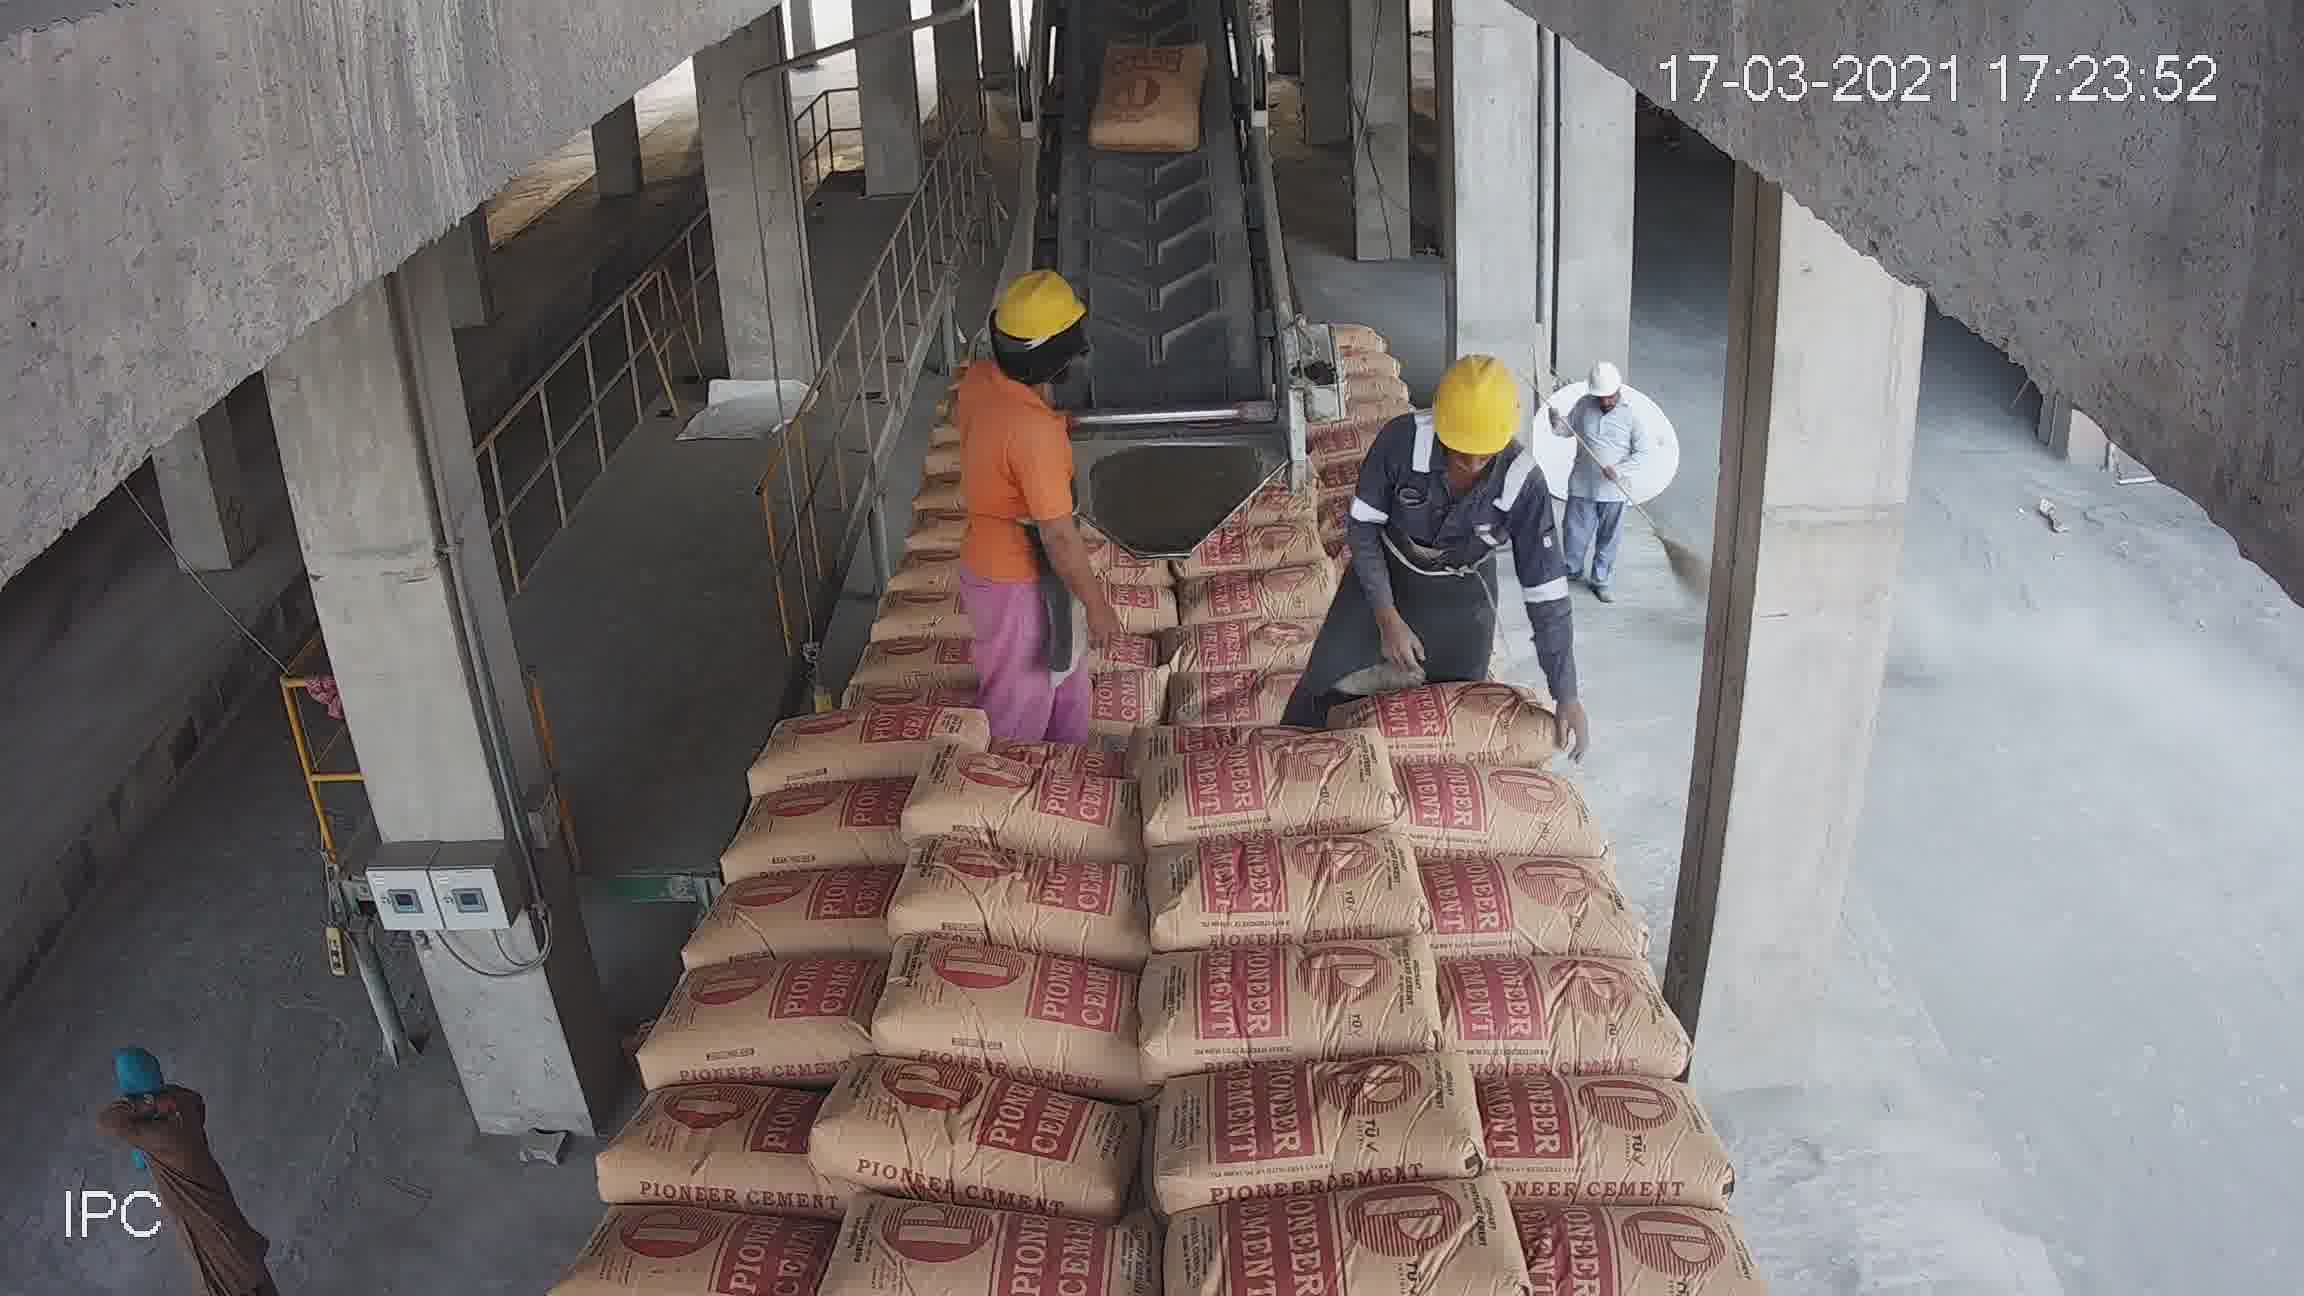bag: (943, 369, 1090, 475), (1101, 101, 1204, 203)
bag_h: (1124, 1055, 1492, 1212), (790, 1071, 1139, 1230), (1100, 932, 1461, 1063), (1169, 1174, 1540, 1296), (862, 942, 1122, 1097), (780, 1198, 1144, 1296), (1437, 943, 1703, 1071), (1100, 734, 1393, 850), (579, 1074, 828, 1211), (1119, 831, 1419, 937), (1476, 1052, 1711, 1188), (1397, 851, 1625, 981), (646, 962, 885, 1079), (897, 658, 1165, 763), (1506, 1190, 1764, 1296), (878, 859, 1139, 959), (570, 1201, 840, 1296), (695, 785, 926, 896), (1133, 652, 1394, 748), (889, 766, 1131, 850), (1160, 571, 1385, 660), (687, 878, 907, 968), (1377, 684, 1573, 782), (918, 560, 1149, 642), (798, 627, 973, 718), (1168, 529, 1378, 601), (1412, 775, 1609, 851), (976, 600, 1152, 684), (761, 711, 951, 783), (1361, 623, 1548, 692), (1176, 486, 1336, 565), (1343, 560, 1514, 627), (1317, 521, 1495, 579), (965, 516, 1146, 571), (813, 581, 961, 642), (831, 529, 972, 592), (1307, 407, 1445, 465), (1328, 446, 1451, 498), (1304, 373, 1423, 426), (1283, 332, 1399, 378), (1071, 429, 1166, 479), (1307, 361, 1416, 396), (1287, 313, 1385, 345)
belt: (1025, 0, 1252, 285)
